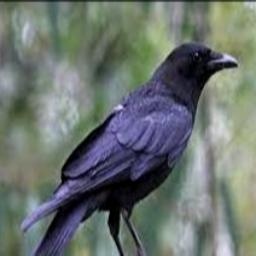Crow: (18, 41, 238, 256)
